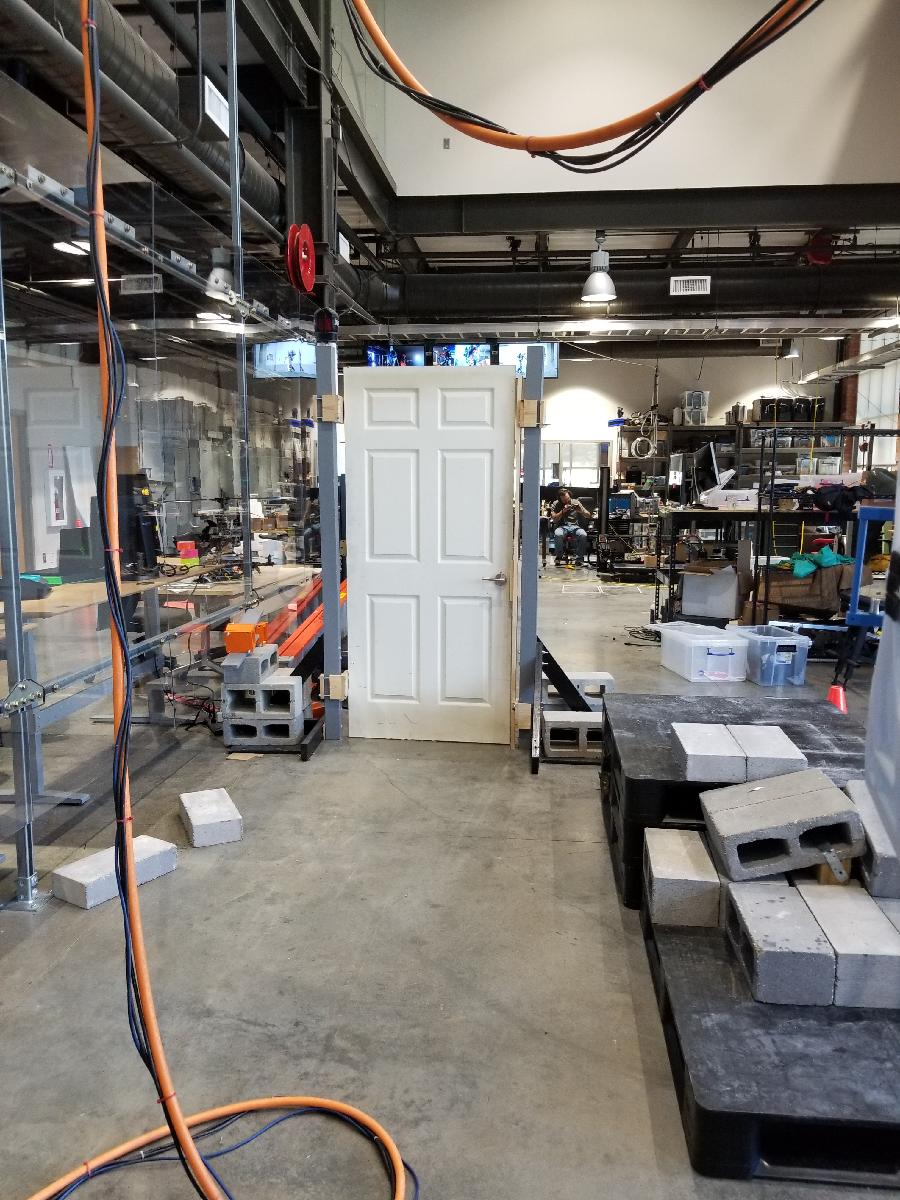door: (338, 358, 521, 756)
doorHandle: (481, 572, 513, 593)
